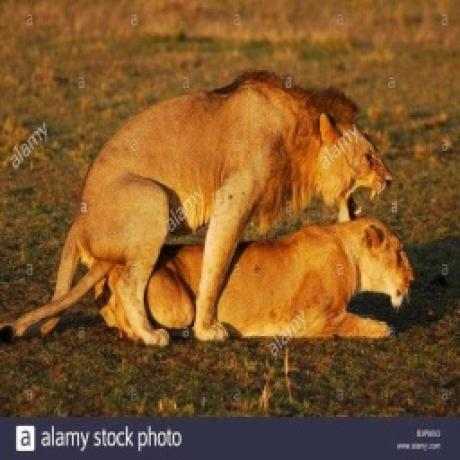Lion: (30, 66, 398, 344), (0, 214, 417, 345)
